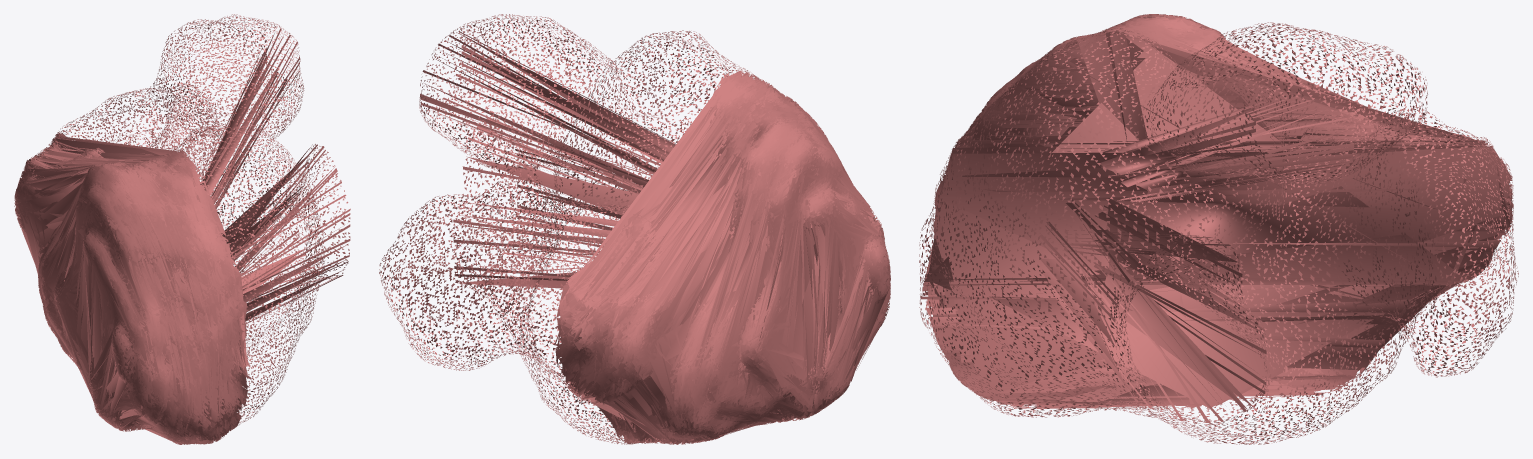
File: heart.glb
3 views of the same model, side by side, from view 1: azimuth 30°, elevation 25°; view 2: azimuth 150°, elevation 25°; view 3: azimuth 270°, elevation 25° (orthographic). The views are drawn at different scales.
Bounding box in the file's own units: 82.42 × 92.71 × 109.
